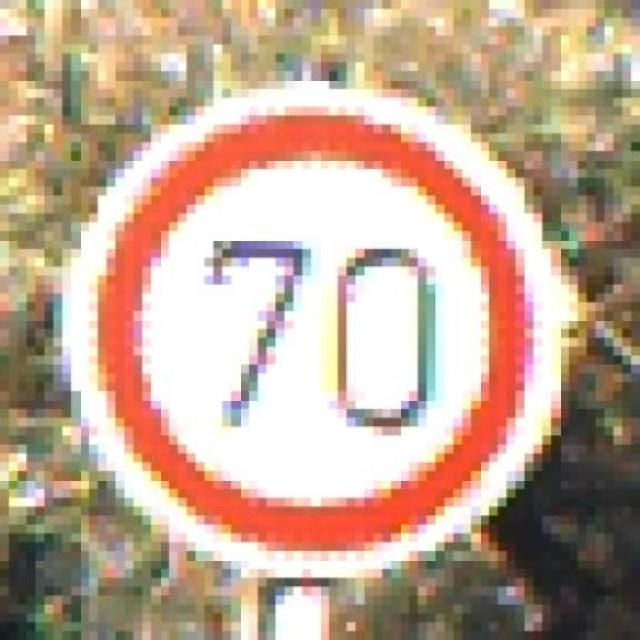forb_speed_over_70: (81, 93, 553, 575)
